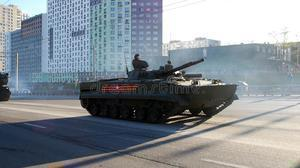bmp: (80, 61, 239, 125)
